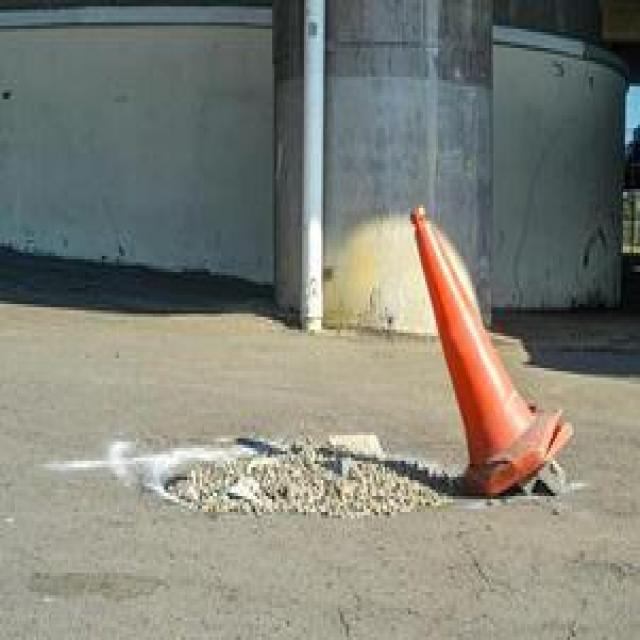road collapse: (105, 213, 475, 640)
